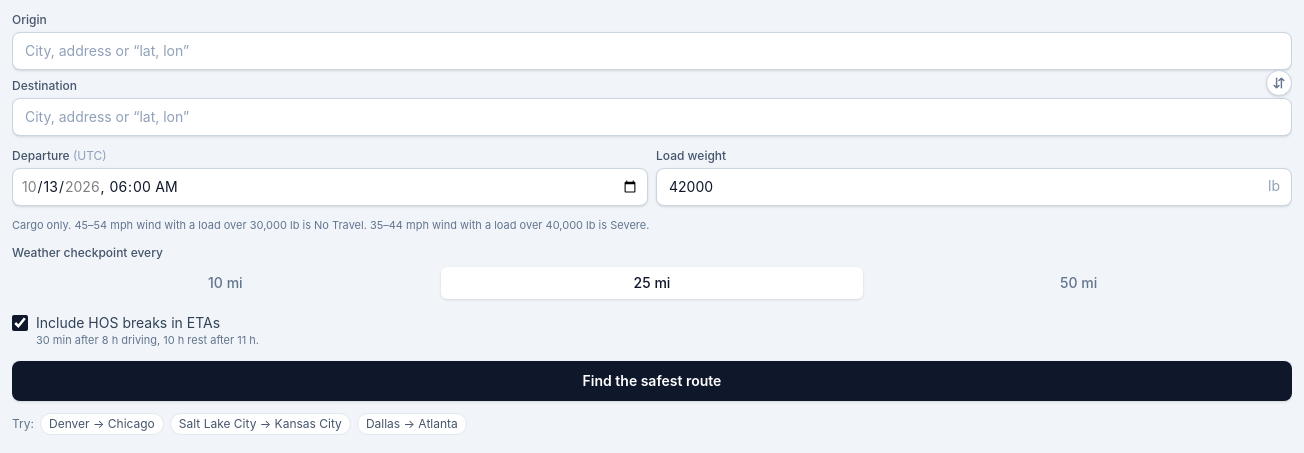
Test: TripForm › swaps origin and destination
Click the button "Denver → Chicago". click: {"x": 102, "y": 424}
box: x1=40 y1=413 x2=164 y2=435
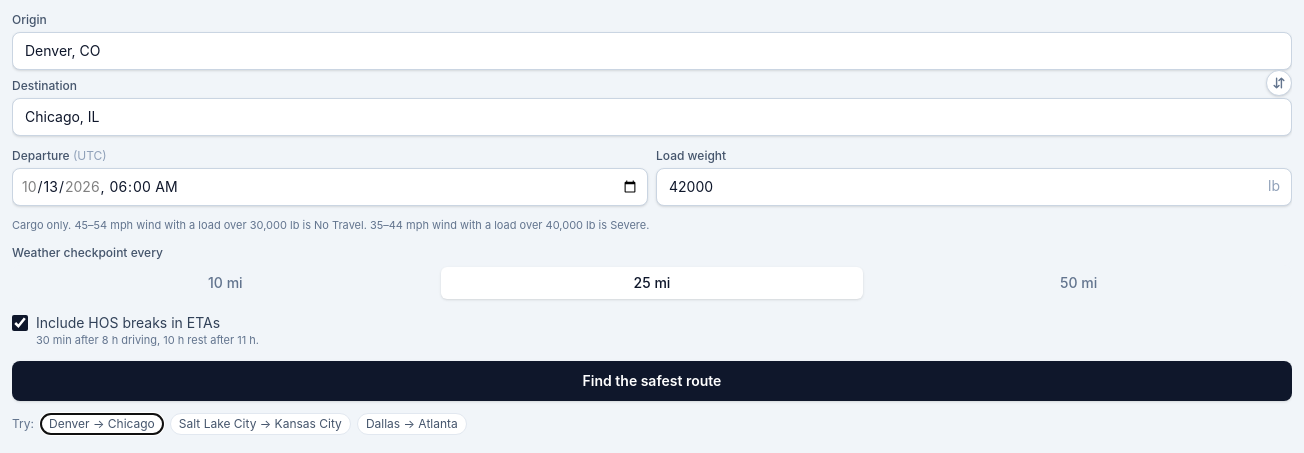
Click the button named "Swap origin and destination". click: {"x": 1279, "y": 83}
box: x1=1266 y1=70 x2=1292 y2=96
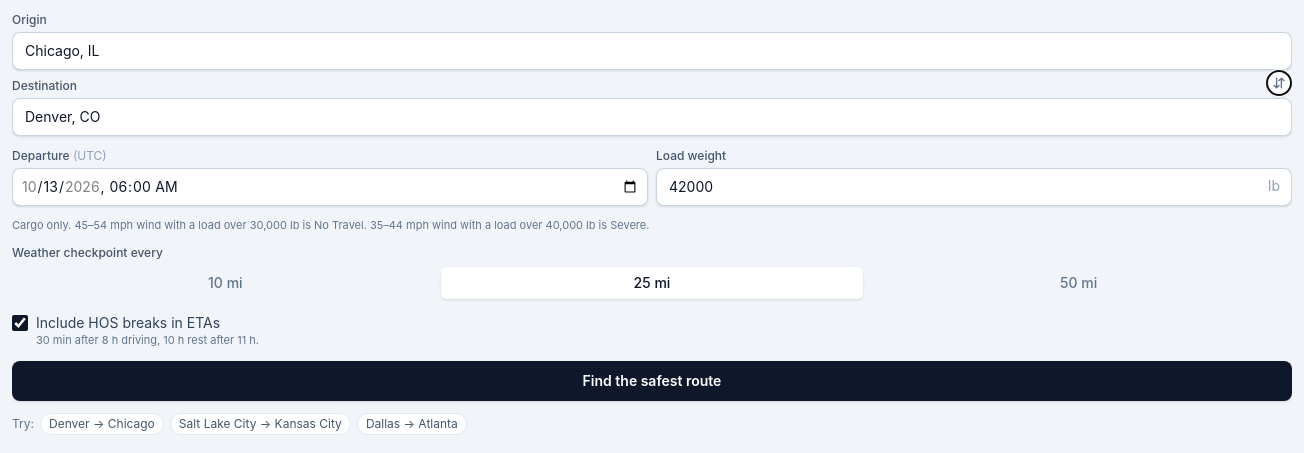
Now the dropdown labelled "Origin" holds "Chicago, IL", box x1=12 y1=32 x2=1292 y2=70
Now the dropdown labelled "Destination" holds "Denver, CO", box x1=12 y1=98 x2=1292 y2=136
